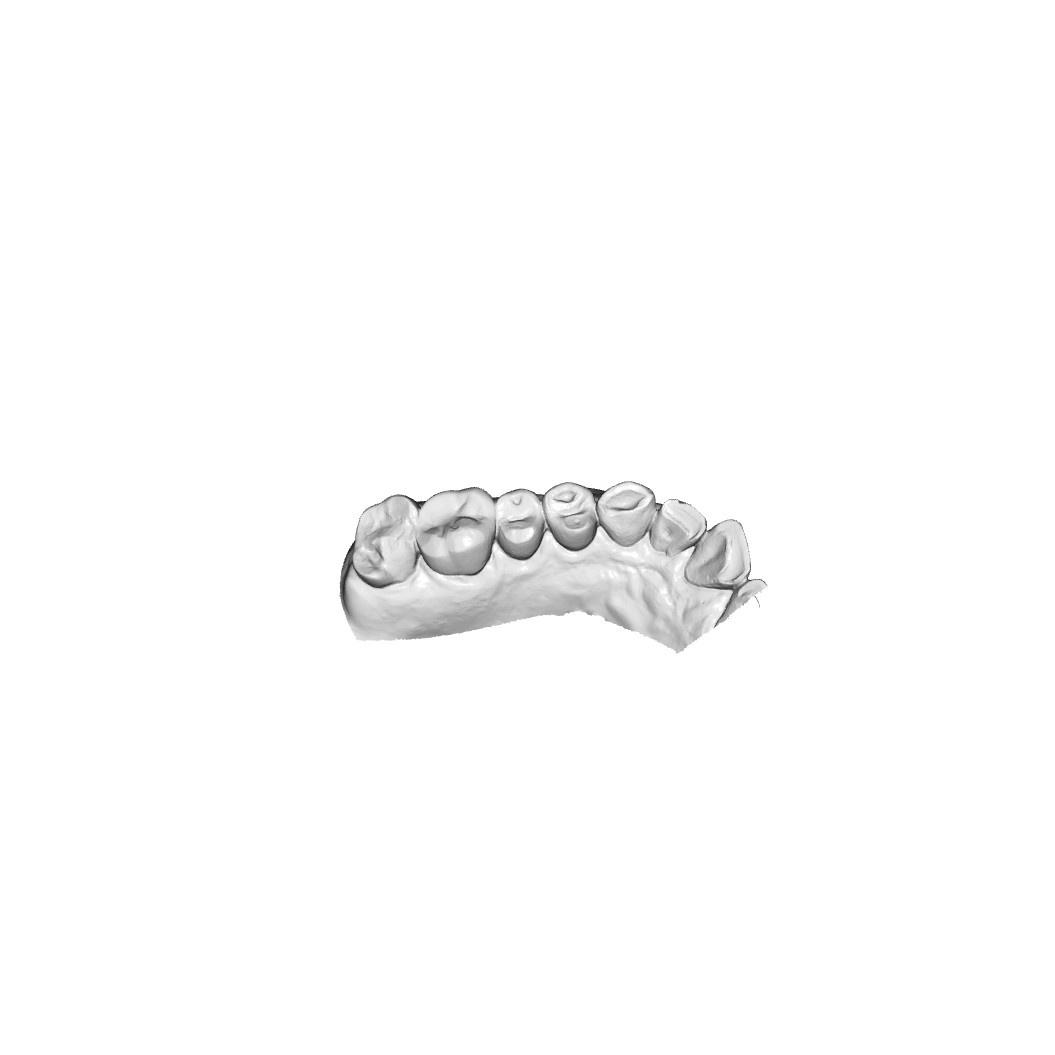canine: (596, 476, 657, 546)
incisor: (684, 517, 753, 589), (650, 495, 706, 563)
molar: (350, 492, 418, 590), (419, 488, 493, 576)
premolar: (541, 480, 600, 551), (494, 487, 547, 563)
